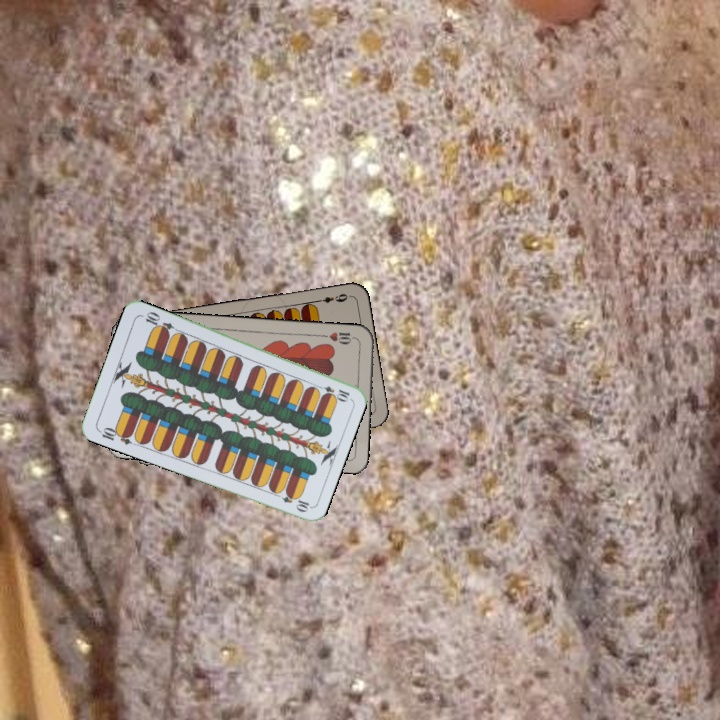E10: (94, 423, 135, 447), (312, 381, 352, 403)
E9: (312, 290, 353, 305)
H10: (319, 328, 359, 347)
